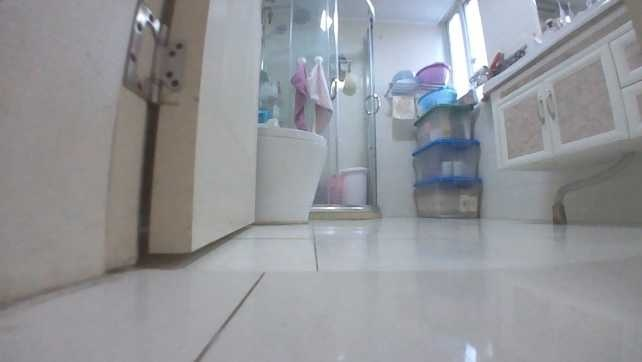door_anno: (0, 0, 262, 310)
toilet: (254, 124, 328, 225)
